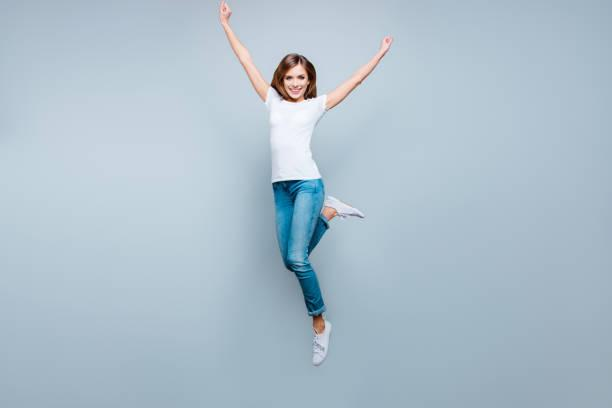Human: (219, 13, 373, 389)
